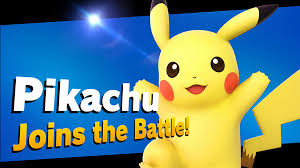pikachu: (132, 1, 298, 168)
